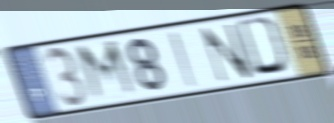3: (44, 43, 89, 111)
8: (126, 35, 169, 95)
D: (234, 14, 293, 78)
I: (166, 29, 201, 90)
M: (72, 37, 142, 105)
N: (198, 21, 255, 85)
